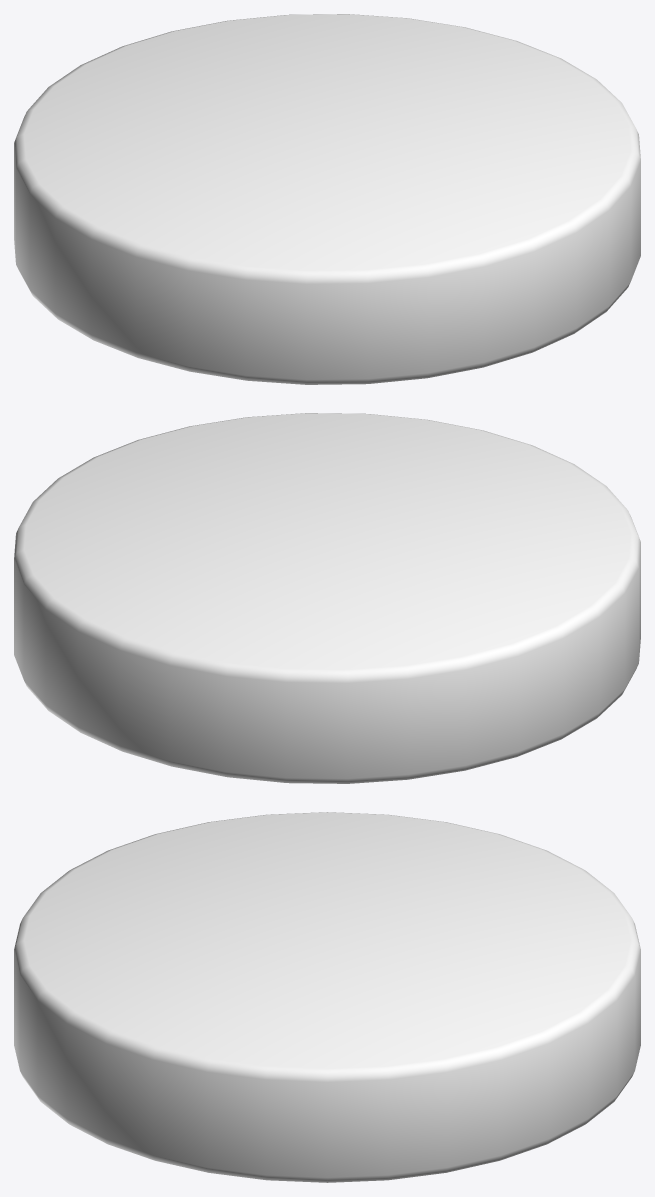
Rendered from bouncing_platform.glb.
3 views of the same model, one above another, from view 1: azimuth 30°, elevation 25°; view 2: azimuth 150°, elevation 25°; view 3: azimuth 270°, elevation 25° (orthographic).
Visible parts, largest first — view 1: bouncing_platform; view 2: bouncing_platform; view 3: bouncing_platform.
Boxes of the visible parts, left/top/right/bottom form: bouncing_platform: left=14, top=14, right=640, bottom=384; bouncing_platform: left=14, top=413, right=640, bottom=783; bouncing_platform: left=14, top=812, right=640, bottom=1182.
Size of the model in its own units: 5 by 1 by 5.
Materials: 1 (1 with a texture image).
